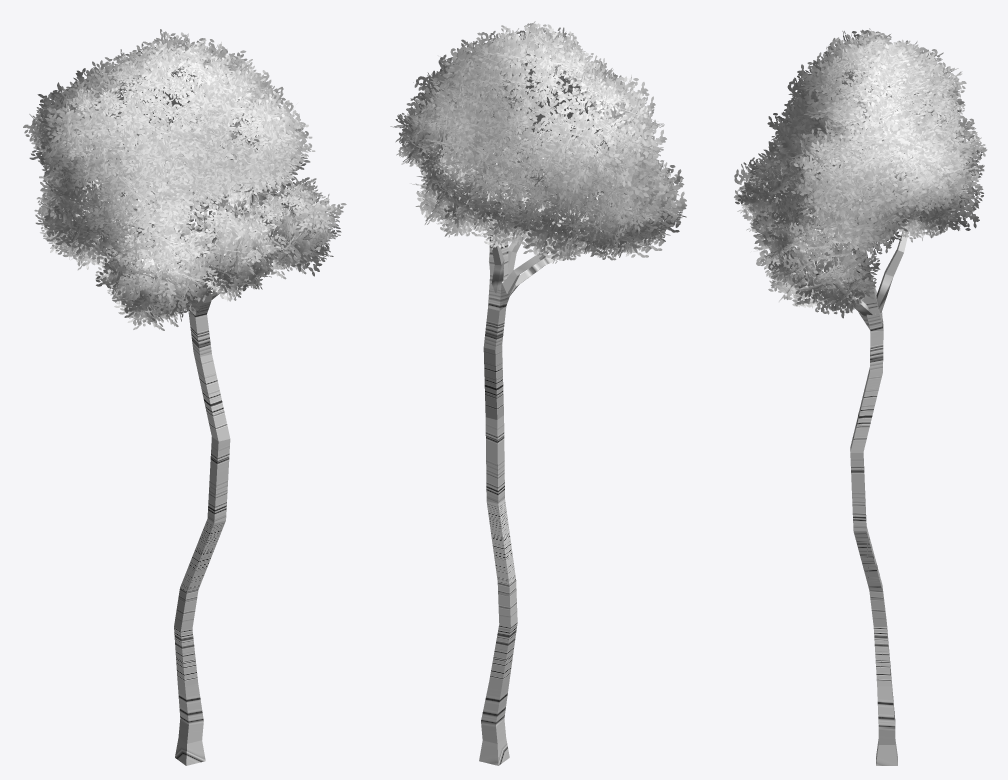
Rendered from TallTree03.fbx.
3 views of the same model, side by side, from view 1: azimuth 30°, elevation 25°; view 2: azimuth 150°, elevation 25°; view 3: azimuth 270°, elevation 25° (orthographic). The views are drawn at different scales.
Visible parts, largest first — view 1: TallTree03_LOD0; view 2: TallTree03_LOD0; view 3: TallTree03_LOD0.
Boxes of the visible parts, box(x1,y1,x2,y2) form: TallTree03_LOD0: box(23, 29, 346, 765); TallTree03_LOD0: box(390, 21, 686, 765); TallTree03_LOD0: box(734, 28, 987, 765).
Size of what is drawn, in the model's own units: 739 by 1829 by 621.
